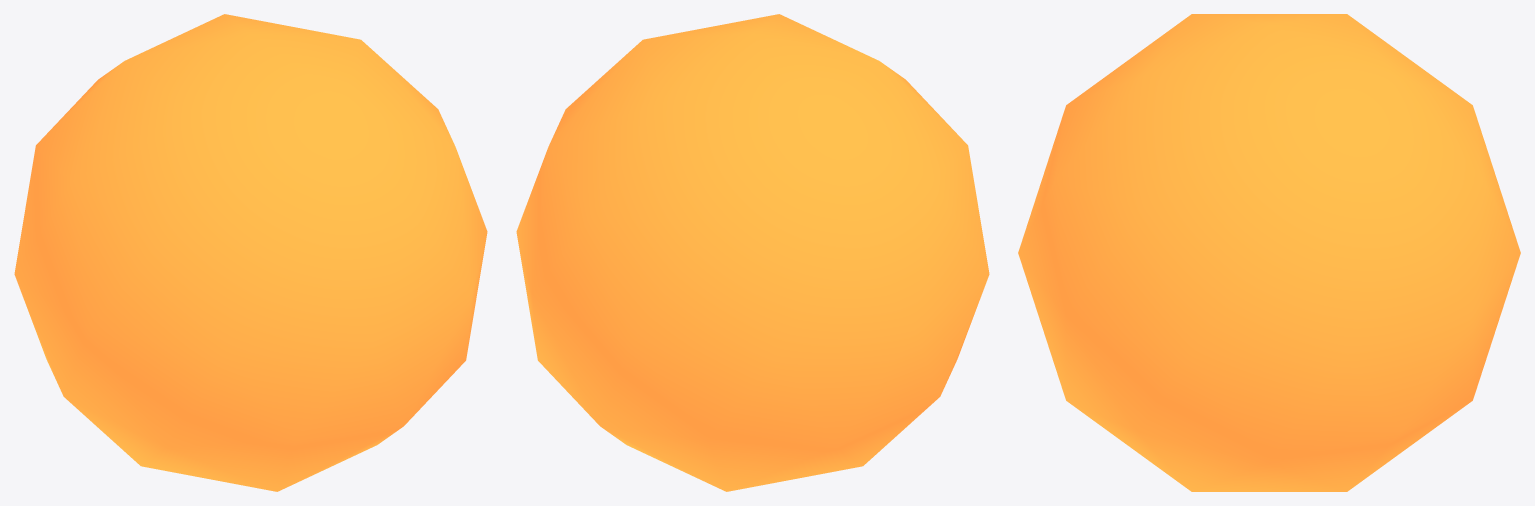
File: boom.gltf
3 views of the same model, side by side, from view 1: azimuth 30°, elevation 25°; view 2: azimuth 150°, elevation 25°; view 3: azimuth 270°, elevation 25° (orthographic). The views are drawn at different scales.
Visible parts, largest first — view 1: Icosphere; view 2: Icosphere; view 3: Icosphere.
Boxes of the visible parts, left/top/right/bottom form: Icosphere: left=14, top=14, right=487, bottom=491; Icosphere: left=516, top=14, right=989, bottom=491; Icosphere: left=1018, top=14, right=1520, bottom=491.
Size of what is drawn, in the model's own units: 0.4991 by 0.4856 by 0.5248.
